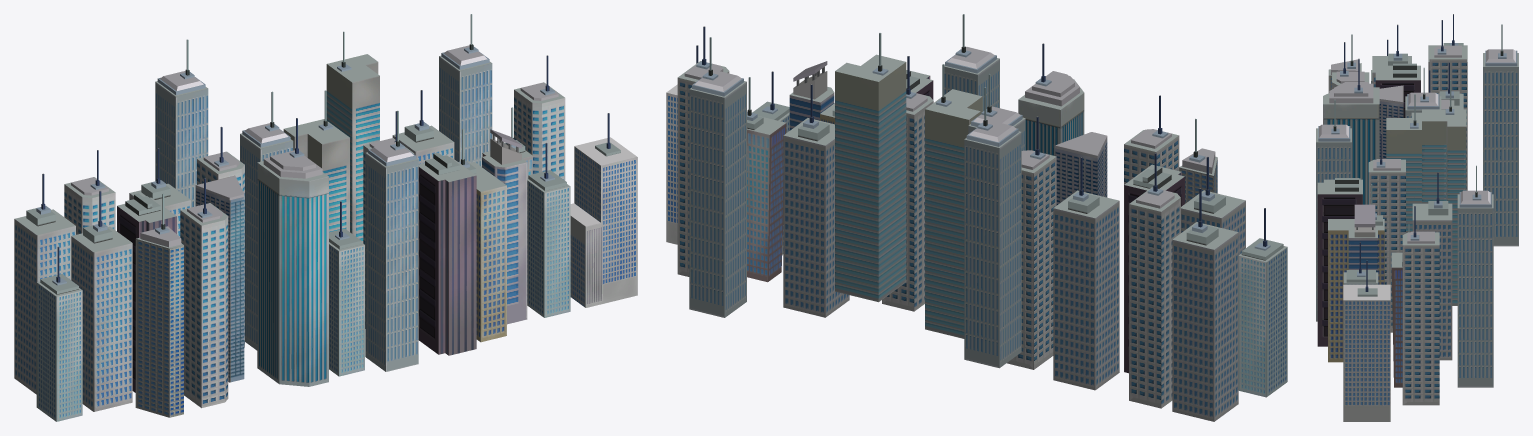
The model's file is SM_ENV_LKNVLD_KaoiwaBuildings.FBX.
The picture shows the model from 3 angles, left to right: view 1: azimuth 30°, elevation 25°; view 2: azimuth 150°, elevation 25°; view 3: azimuth 270°, elevation 25°; orthographic projection. The views are drawn at different scales.
Visible parts, largest first — view 1: SM_ENV_LKNVLD_KaoiwaBuildings; view 2: SM_ENV_LKNVLD_KaoiwaBuildings; view 3: SM_ENV_LKNVLD_KaoiwaBuildings.
Part boxes in pixels (bbox=[...]): SM_ENV_LKNVLD_KaoiwaBuildings: bbox=[14, 14, 637, 421]; SM_ENV_LKNVLD_KaoiwaBuildings: bbox=[666, 14, 1287, 421]; SM_ENV_LKNVLD_KaoiwaBuildings: bbox=[1316, 14, 1518, 421].
Bounding box in the file's own units: 54246 × 25423 × 19211.
